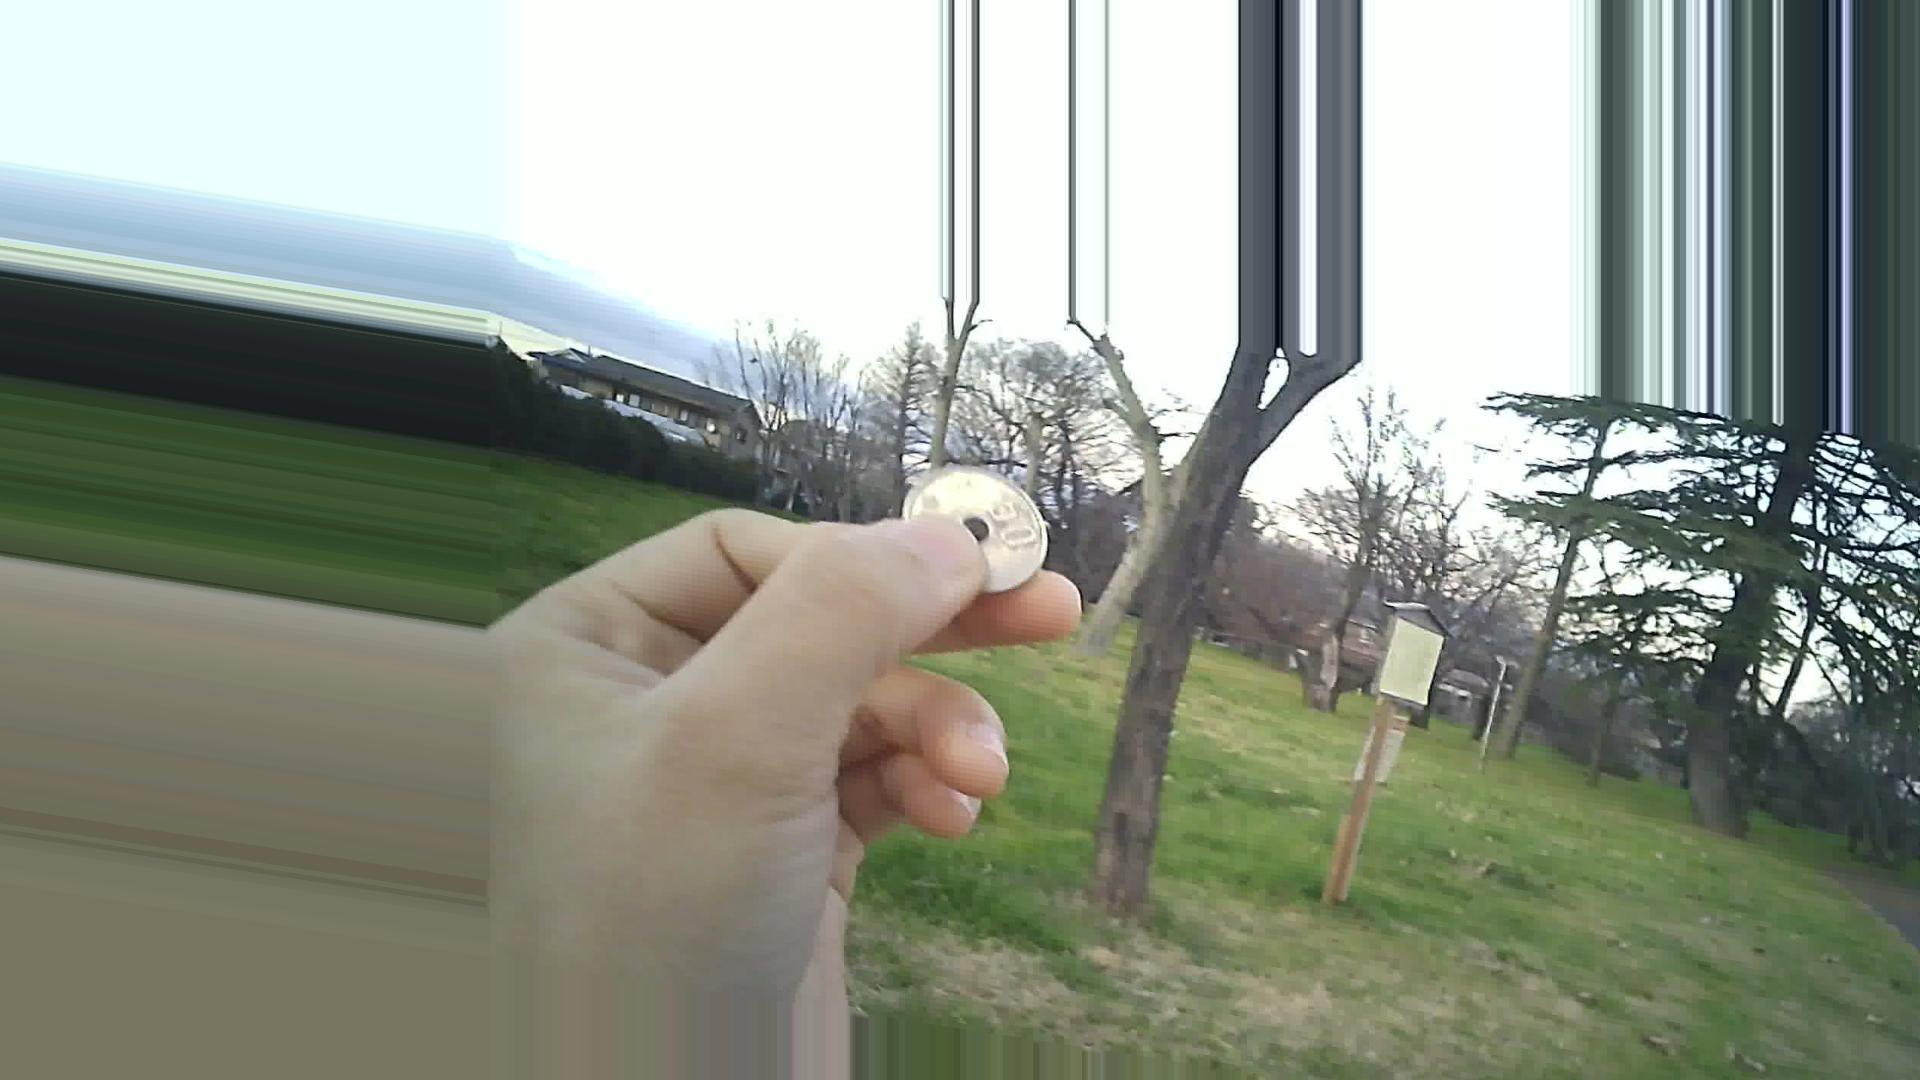50 Yen: (897, 458, 1048, 605)
